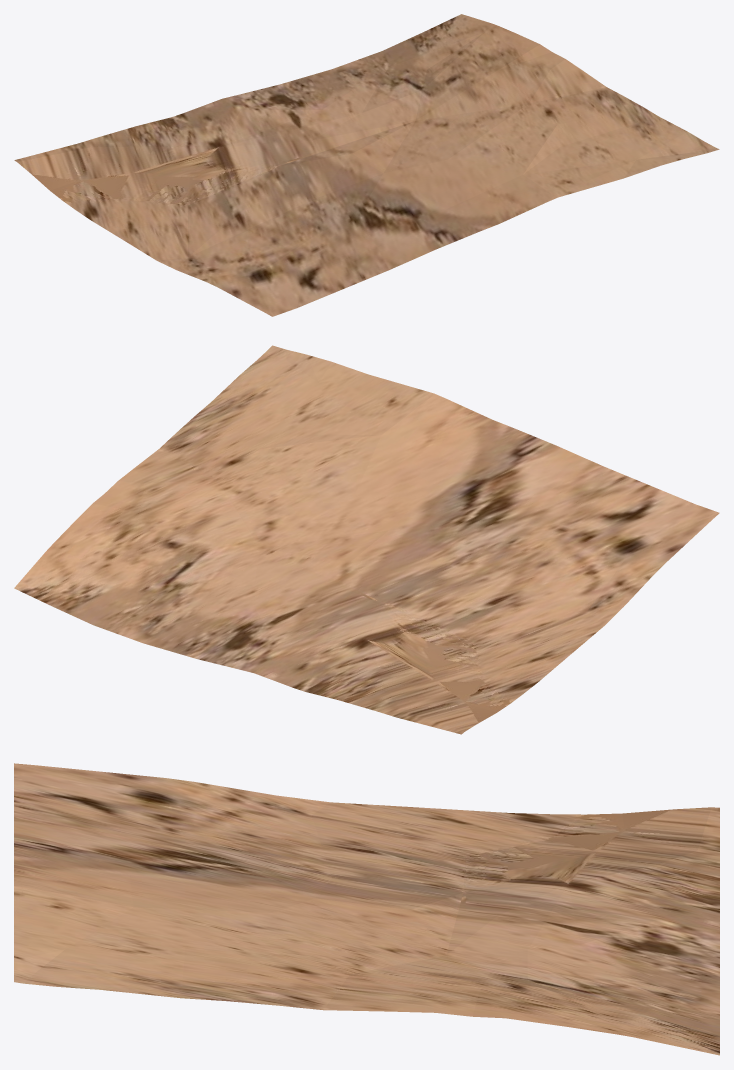
The picture shows the model from 3 angles, top to bottom: view 1: azimuth 30°, elevation 25°; view 2: azimuth 150°, elevation 25°; view 3: azimuth 270°, elevation 25°; orthographic projection. The views are drawn at different scales.
Size of the model in its own units: 2.09 by 0.427 by 2.09.
Materials: 2 (2 with a texture image).
